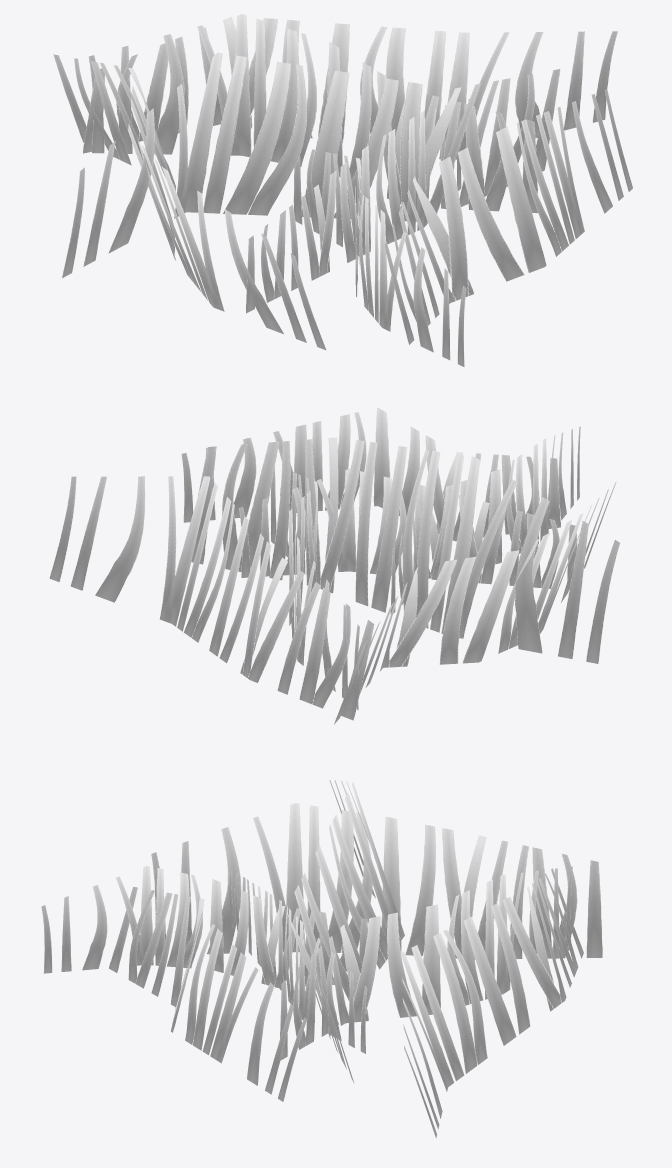
The model's file is SM_Grass_Small_04.obj.
3 views of the same model, one above another, from view 1: azimuth 30°, elevation 25°; view 2: azimuth 150°, elevation 25°; view 3: azimuth 270°, elevation 25° (orthographic). The views are drawn at different scales.
Visible parts, largest first — view 1: SM_Grass_Small_04_MI_GrassSmall2; view 2: SM_Grass_Small_04_MI_GrassSmall2; view 3: SM_Grass_Small_04_MI_GrassSmall2.
Boxes of the visible parts, <box> form: SM_Grass_Small_04_MI_GrassSmall2: <box>53,14,632,367</box>; SM_Grass_Small_04_MI_GrassSmall2: <box>49,407,620,724</box>; SM_Grass_Small_04_MI_GrassSmall2: <box>41,780,602,1138</box>.
Bounding box in the file's own units: 2.4 × 0.754 × 2.37.
1 material, 1 textured.
